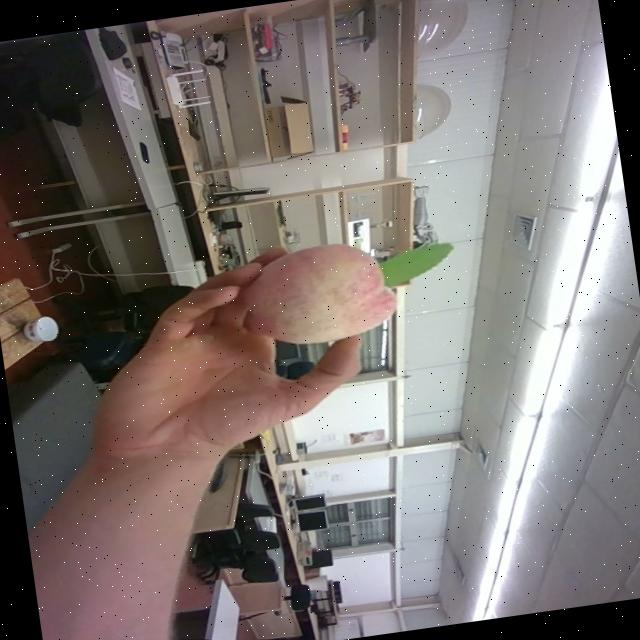peach: (240, 243, 454, 344)
